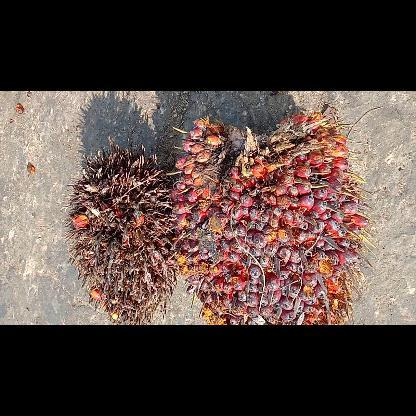TBS masak: (168, 113, 376, 323)
Terlalu masak: (64, 138, 178, 324)
